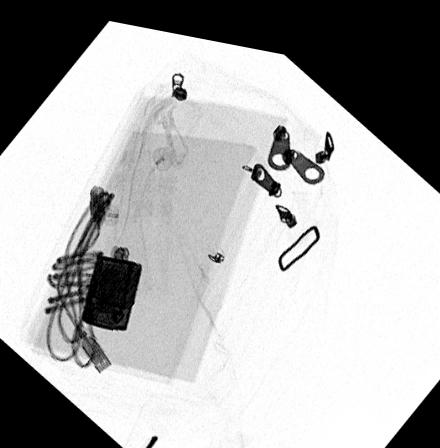Lighter: (79, 250, 142, 326)
